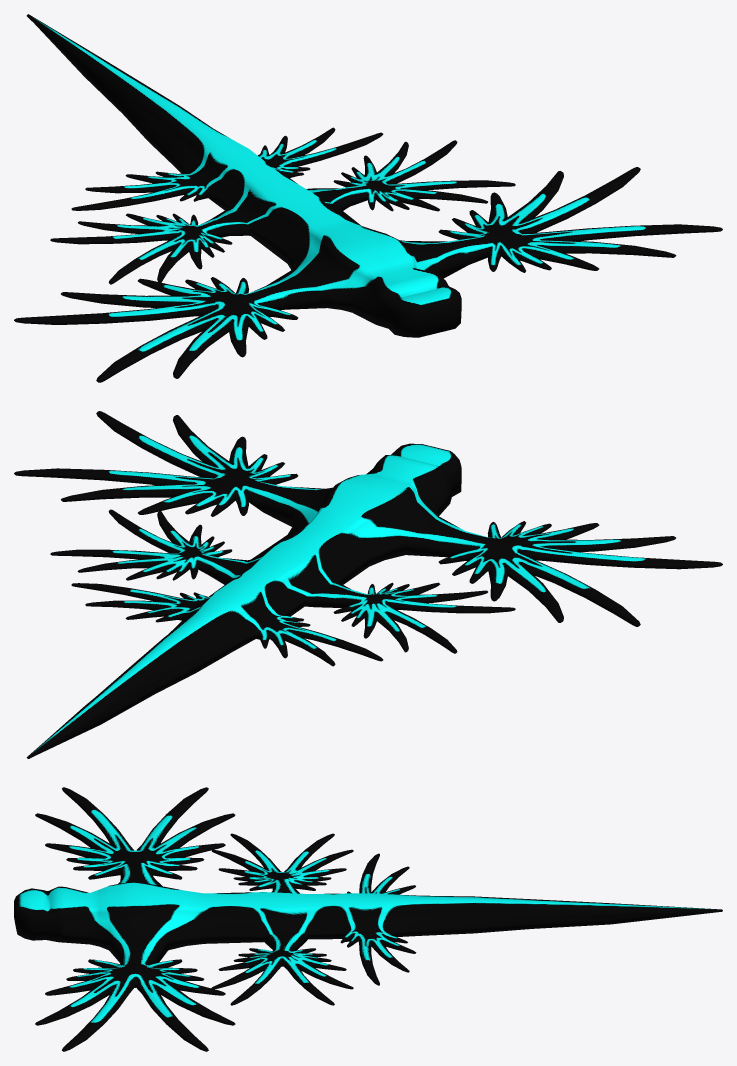
The model's file is Enemy_alpha.fbx.
3 views of the same model, one above another, from view 1: azimuth 30°, elevation 25°; view 2: azimuth 150°, elevation 25°; view 3: azimuth 270°, elevation 25° (orthographic). The views are drawn at different scales.
Visible parts, largest first — view 1: Enemy_alpha; view 2: Enemy_alpha; view 3: Enemy_alpha.
Boxes of the visible parts, left/top/right/bottom form: Enemy_alpha: left=14, top=14, right=722, bottom=382; Enemy_alpha: left=14, top=411, right=722, bottom=758; Enemy_alpha: left=14, top=787, right=722, bottom=1051.
Bounding box in the file's own units: 1330 × 77.66 × 1513.
Materials: 1 (1 with a texture image).
